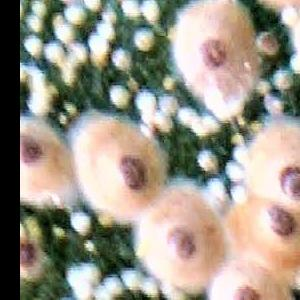Femea: (167, 27, 240, 134), (89, 123, 162, 211), (149, 192, 215, 282), (19, 117, 67, 204), (246, 208, 299, 272), (261, 129, 299, 208), (209, 270, 290, 299), (20, 218, 44, 282), (257, 30, 283, 60), (81, 0, 102, 12), (160, 166, 163, 168)
Linfa: (135, 0, 161, 27), (118, 267, 140, 295), (66, 210, 90, 234), (77, 258, 100, 283), (158, 87, 177, 117), (106, 85, 130, 108), (197, 150, 219, 175), (52, 22, 77, 43), (86, 35, 105, 62), (154, 111, 177, 133), (273, 68, 294, 92), (100, 272, 124, 293), (115, 0, 143, 18), (192, 116, 217, 136), (110, 49, 133, 70), (134, 88, 155, 111), (45, 46, 69, 66), (58, 267, 83, 286), (57, 5, 83, 23), (71, 278, 92, 299), (23, 35, 42, 58), (95, 20, 114, 41), (280, 5, 299, 26), (23, 12, 45, 30), (132, 33, 155, 50), (26, 0, 48, 15), (226, 162, 243, 181)
